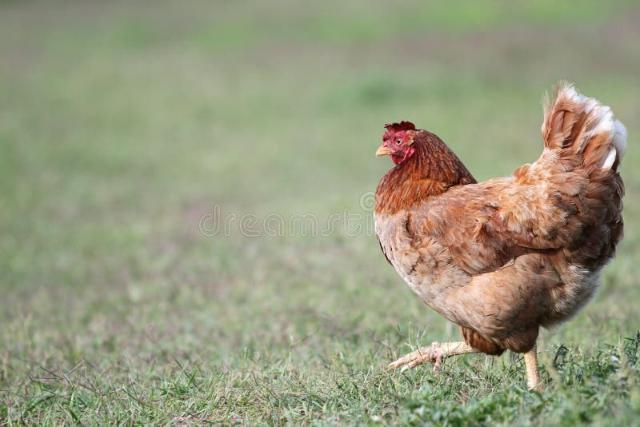Chicken: (373, 82, 626, 391)
